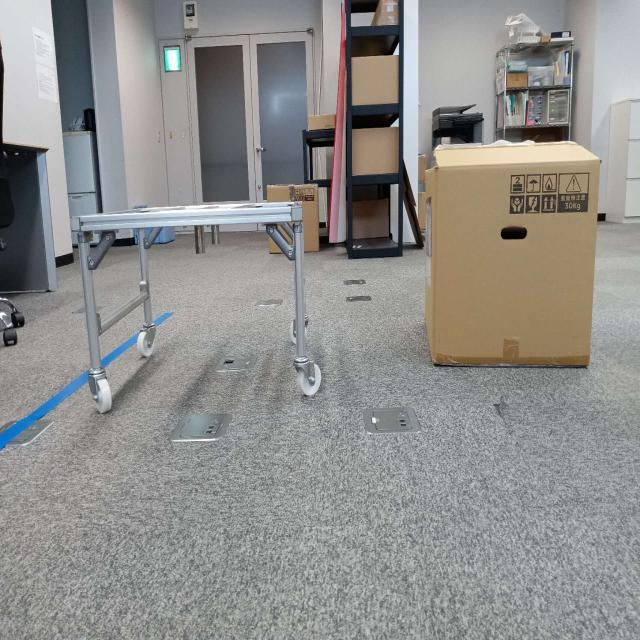box: (427, 151, 596, 371)
door: (77, 206, 304, 270)
